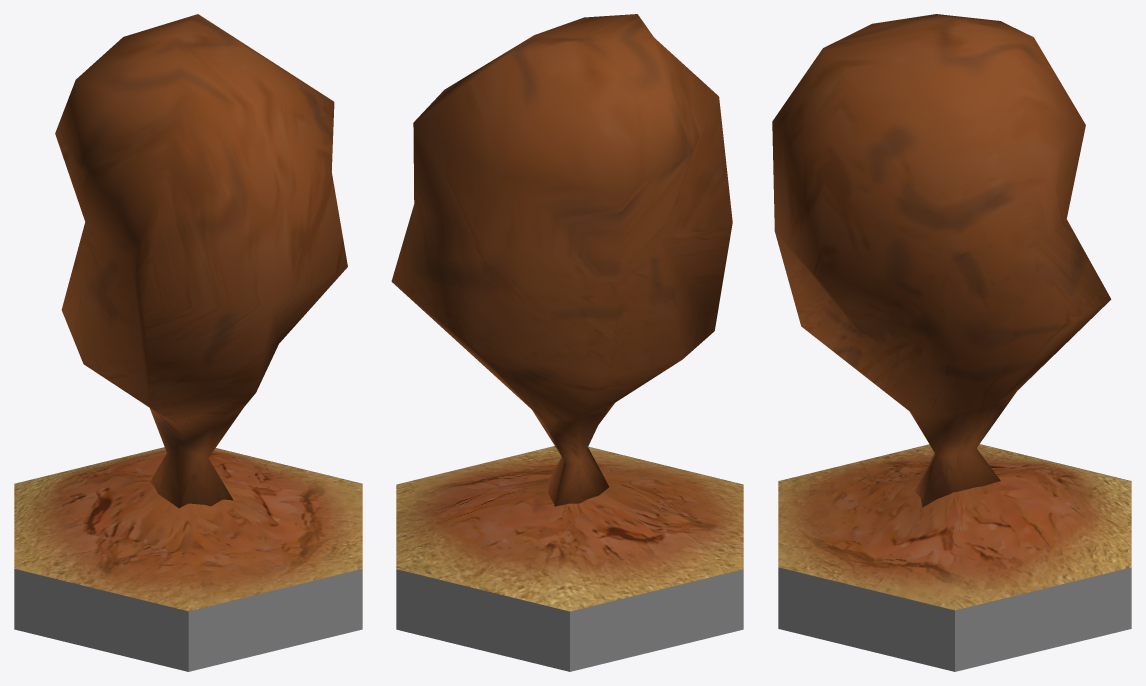
The model's file is tile_rock.FBX.
3 renders of one model, left to right at view 1: azimuth 30°, elevation 25°; view 2: azimuth 150°, elevation 25°; view 3: azimuth 270°, elevation 25°, orthographic.
Visible parts, largest first — view 1: tile_rockF, Object002, Object001; view 2: tile_rockF, Object002, Object001; view 3: tile_rockF, Object002, Object001.
Part boxes in pixels (bbox=[...]): tile_rockF: bbox=[55, 14, 347, 508]; Object002: bbox=[14, 447, 362, 611]; Object001: bbox=[14, 447, 362, 671]; tile_rockF: bbox=[391, 14, 732, 506]; Object002: bbox=[396, 446, 743, 611]; Object001: bbox=[396, 446, 743, 671]; tile_rockF: bbox=[772, 14, 1111, 507]; Object002: bbox=[778, 444, 1131, 610]; Object001: bbox=[778, 444, 1131, 671].
Bounding box in the file's own units: 180 × 272 × 159.
